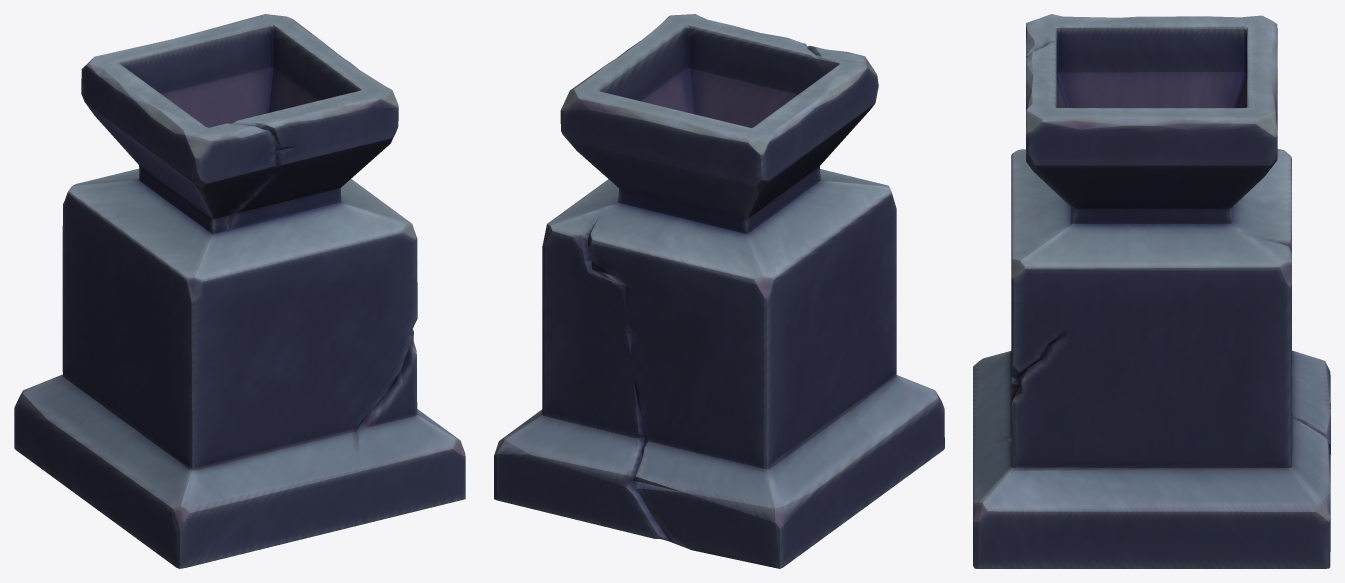
File: Braiser.FBX
3 renders of one model, left to right at view 1: azimuth 30°, elevation 25°; view 2: azimuth 150°, elevation 25°; view 3: azimuth 270°, elevation 25°, orthographic. The views are drawn at different scales.
Visible parts, largest first — view 1: Braiser_01; view 2: Braiser_01; view 3: Braiser_01.
Boxes of the visible parts, <box> form: Braiser_01: <box>14,14,465,568</box>; Braiser_01: <box>494,14,944,568</box>; Braiser_01: <box>973,14,1330,568</box>.
Size of the model in its own units: 1.44 by 1.91 by 1.44.
1 material, 1 textured.
